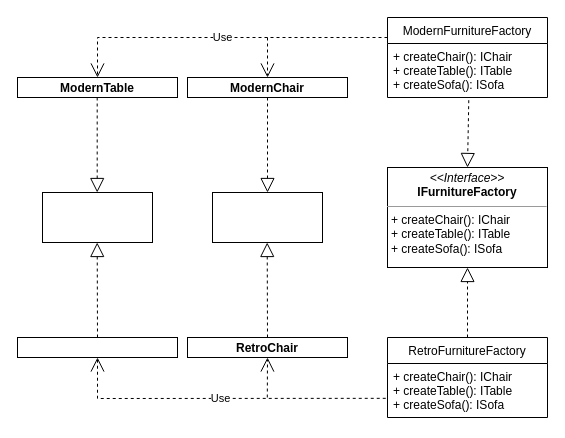
This 565x438 diagram has some shape labels left out. The shapes that lost their labels are listed below. From the top down, each one's centre as x and y in pixels, then its label:
point 97,217: «interface» ITable
point 267,217: «interface» IChair
point 97,347: RetroTable
